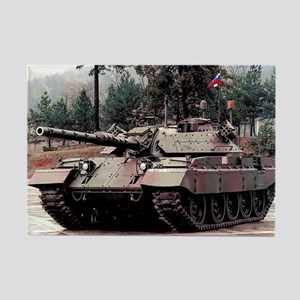Battle Tank: (30, 116, 277, 235)
